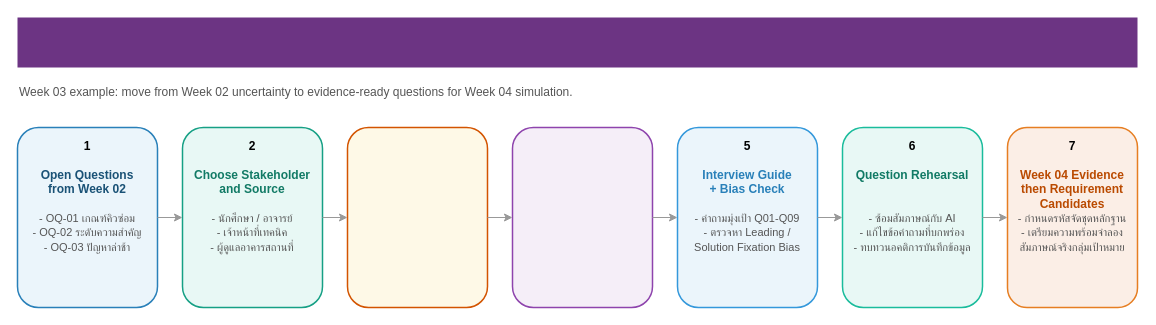
The diagram is 1156 pixels wide and 325 high, and some of its shapes have lost their labels. The centre of each missing label's shape, as x and y in pixels:
"3 Select Technique - Semi-structured Interview - Document Analysis" goes at [417,217].
"4 Elicitation Plan - Question Map - Method + Evidence - กำหนดผู้รับผิดชอบชัดเจน" goes at [582,217].
"Classroom & Lab Maintenance — Elicitation Flow" goes at [577,42].
